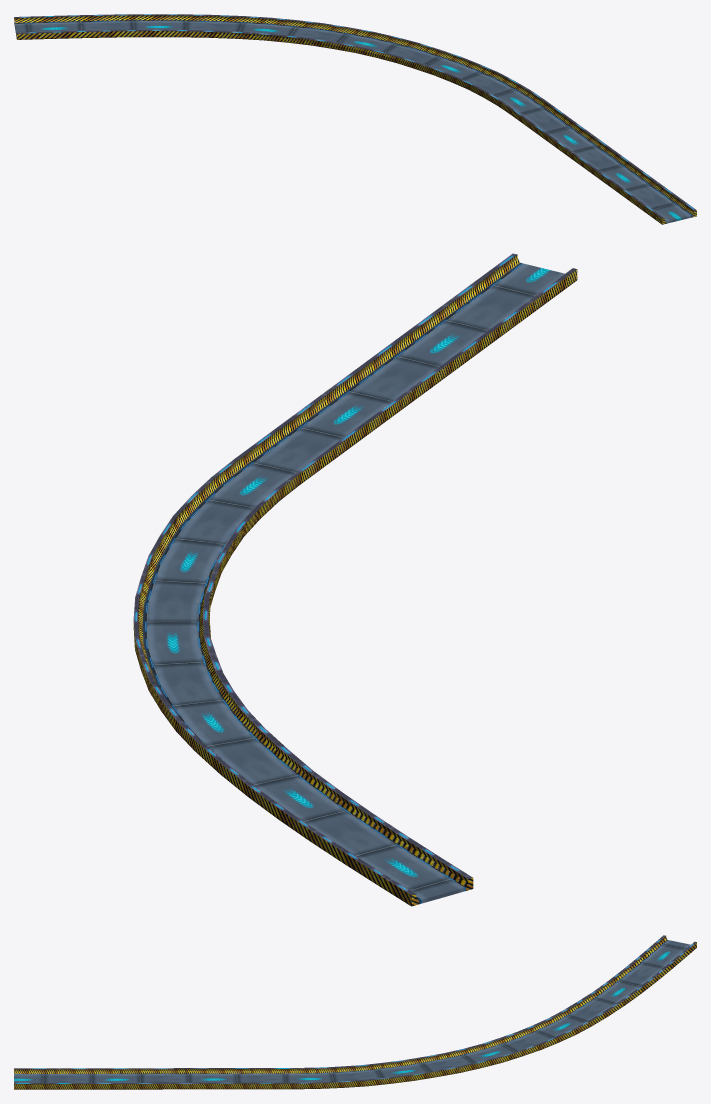
Rendered from Naya_Ramp.fbx.
3 renders of one model, top to bottom at view 1: azimuth 30°, elevation 25°; view 2: azimuth 150°, elevation 25°; view 3: azimuth 270°, elevation 25°, orthographic. The views are drawn at different scales.
Visible parts, largest first — view 1: Line012; view 2: Line012; view 3: Line012.
Boxes of the visible parts, <box> form: Line012: <box>14,14,696,224</box>; Line012: <box>133,253,577,906</box>; Line012: <box>14,935,696,1089</box>.
Bounding box in the file's own units: 171 × 3 × 331.
